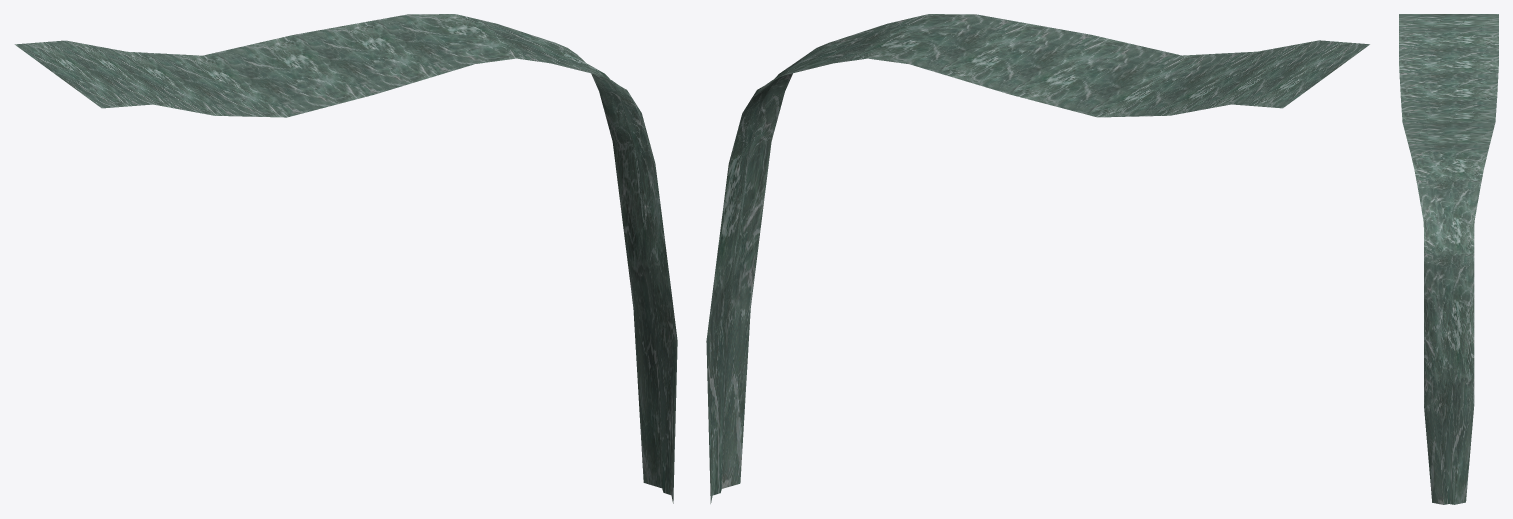
The model's file is Waterfallplane.fbx.
3 renders of one model, left to right at view 1: azimuth 30°, elevation 25°; view 2: azimuth 150°, elevation 25°; view 3: azimuth 270°, elevation 25°, orthographic. The views are drawn at different scales.
Parts seen in each view (by area): view 1: WaterfallPLane; view 2: WaterfallPLane; view 3: WaterfallPLane.
Part boxes in pixels (x1=…): WaterfallPLane: x1=14, y1=14, x2=677, y2=503; WaterfallPLane: x1=706, y1=14, x2=1369, y2=503; WaterfallPLane: x1=1399, y1=14, x2=1498, y2=504.
Size of the model in its own units: 1596 by 1414 by 398.
